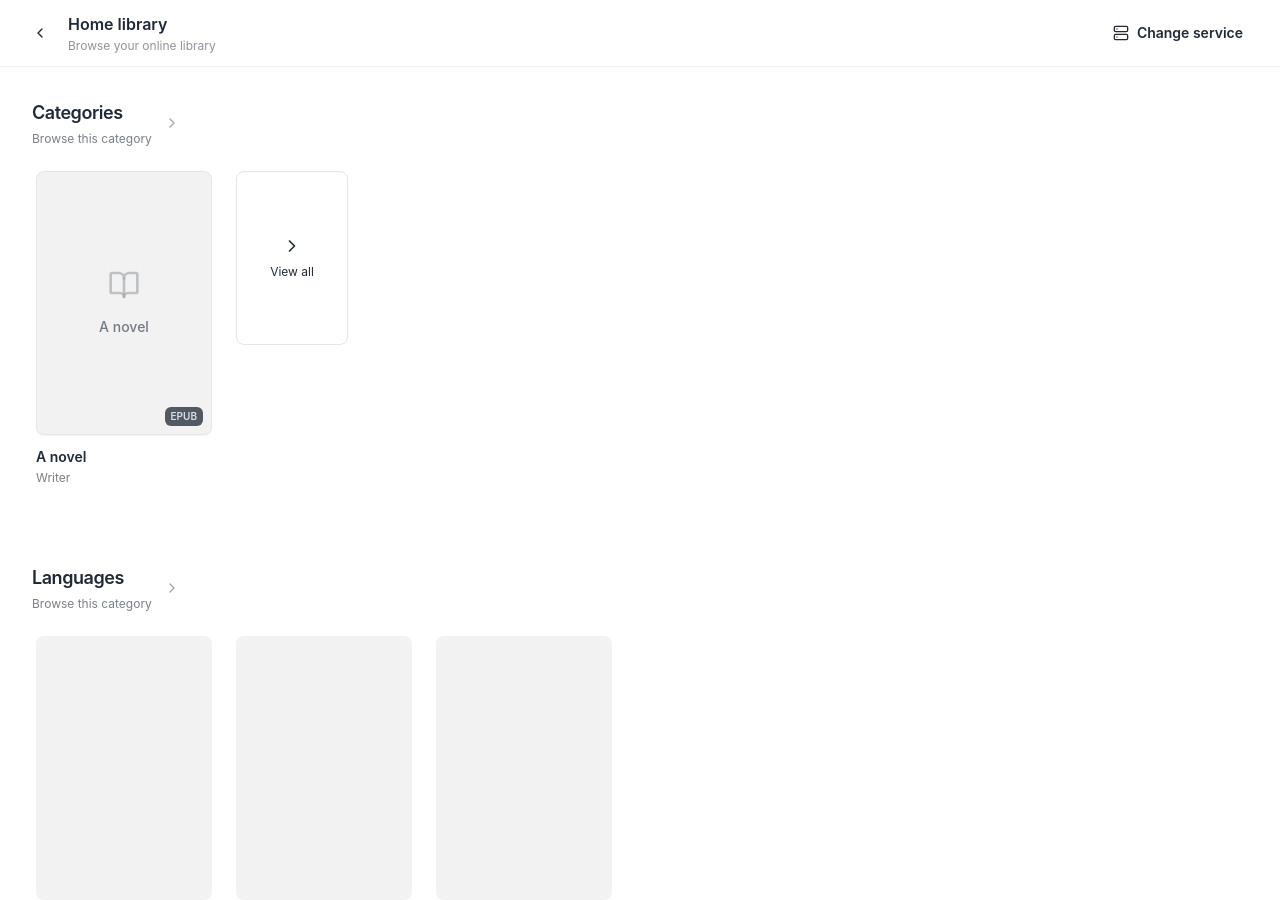
Test: OPDS view › loads category previews only when the shelf enters the viewport, then opens details
The image size is (1280, 900).
Check: the button "Categories Browse this category" is shown, box [32,99,180,147]
Click the button "A novel EPUB A novel Writer" at (124, 329), box [36,171,212,486]
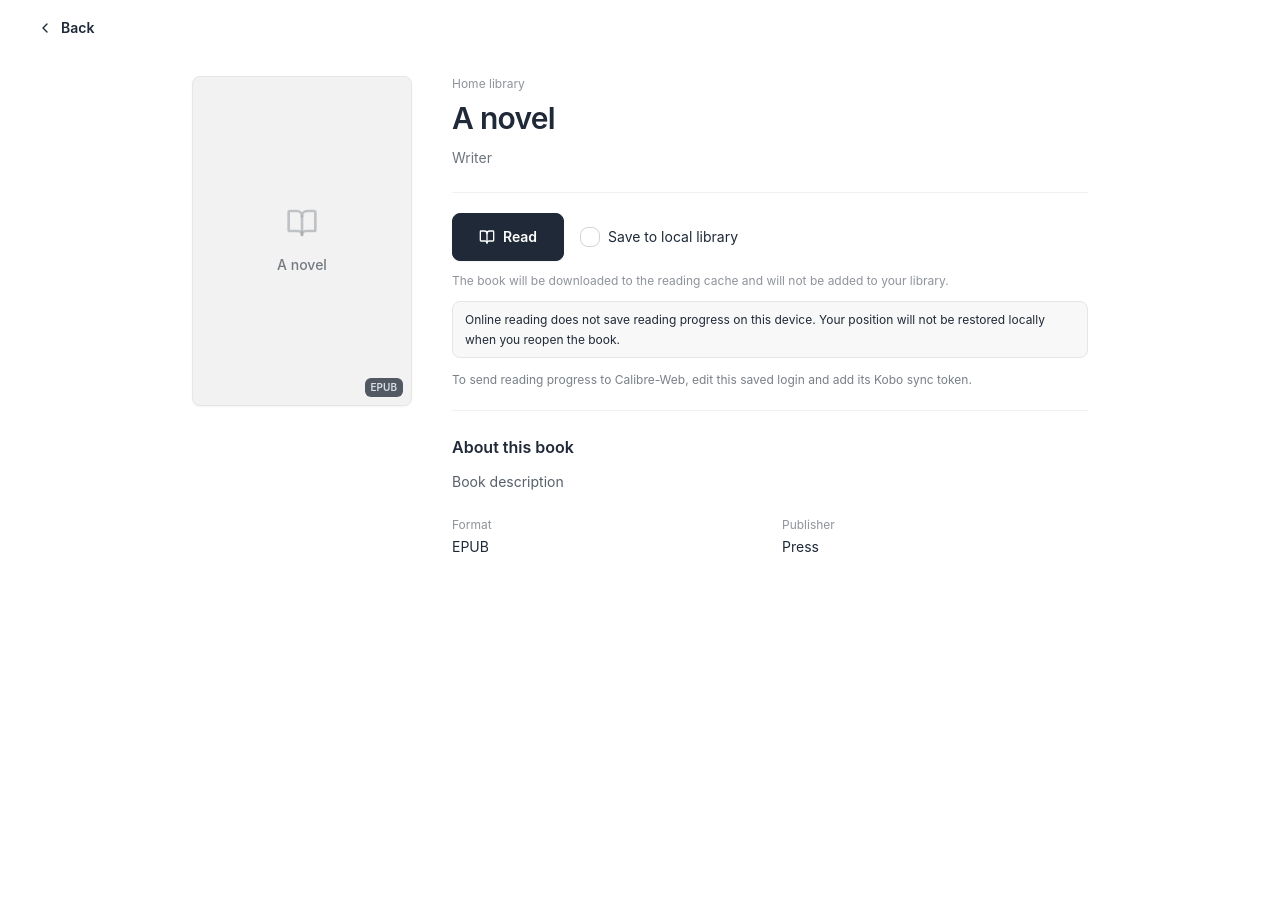
Check: the text "Book description" is shown, box [452,472,564,490]
Check: the checkbox labelled "Save to local library" is not checked, box [580,227,600,247]
